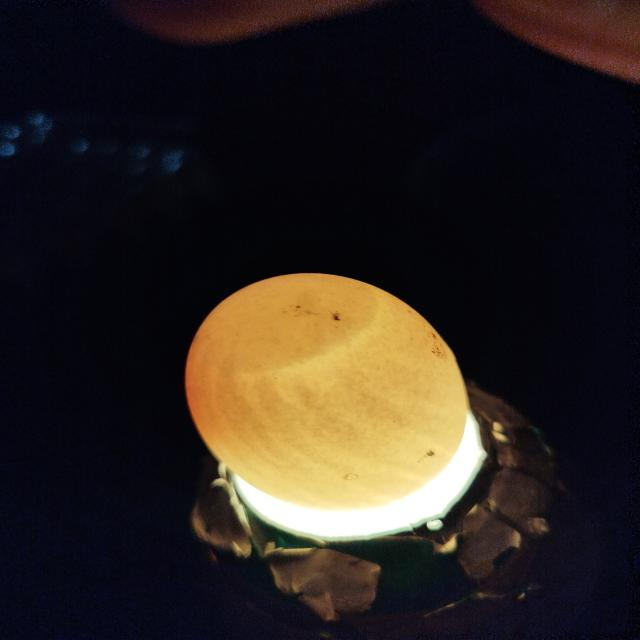Camara de Ar: (187, 273, 379, 376)
